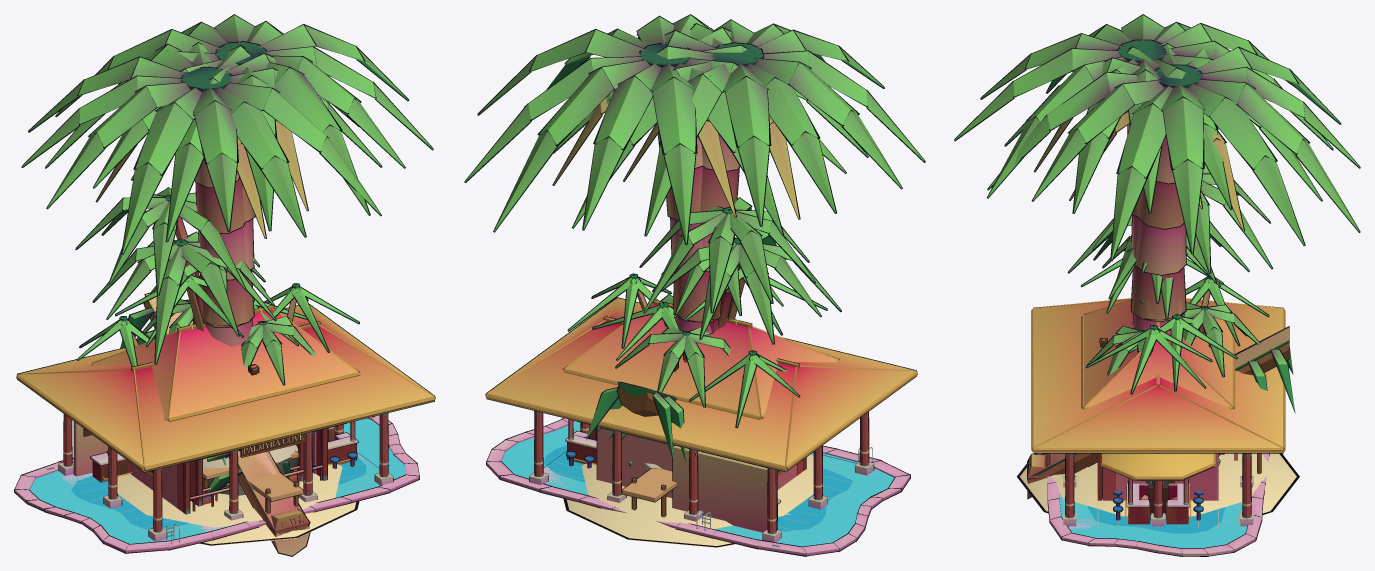
File: fps-kit-resort.glb
3 views of the same model, side by side, from view 1: azimuth 30°, elevation 25°; view 2: azimuth 150°, elevation 25°; view 3: azimuth 270°, elevation 25° (orthographic). The views are drawn at different scales.
Visible parts, largest first — view 1: KIT_RESORT_Landmark_Lobby, KIT_RESORT_Landmark_GiantPalm_B, KIT_RESORT_Landmark_GiantPalm_A, KIT_RESORT_Landmark_Pool, KIT_RESORT_Backdrop_Islet, KIT_RESORT_TallPalm_A, KIT_RESORT_TallPalm_B, KIT_RESORT_Ramp_Frond, KIT_RESORT_Landmark_Villa, KIT_RESORT_Palm_B, KIT_RESORT_Ramp_Limb, KIT_RESORT_Backdrop_Palm_B (+4 smaller); view 2: KIT_RESORT_Landmark_Lobby, KIT_RESORT_Landmark_GiantPalm_A, KIT_RESORT_Landmark_GiantPalm_B, KIT_RESORT_Landmark_Pool, KIT_RESORT_Backdrop_Islet, KIT_RESORT_TallPalm_B, KIT_RESORT_TallPalm_A, KIT_RESORT_Landmark_Villa, KIT_RESORT_Hedge_C, KIT_RESORT_Ramp_Frond, KIT_RESORT_Backdrop_Jetty, KIT_RESORT_Backdrop_Palm_A (+2 smaller); view 3: KIT_RESORT_Landmark_GiantPalm_A, KIT_RESORT_Landmark_Lobby, KIT_RESORT_Landmark_GiantPalm_B, KIT_RESORT_Landmark_Pool, KIT_RESORT_Backdrop_Islet, KIT_RESORT_TallPalm_B, KIT_RESORT_TallPalm_A, KIT_RESORT_Ramp_Frond, KIT_RESORT_Landmark_Villa, KIT_RESORT_Hedge_C, KIT_RESORT_Ramp_Limb, KIT_RESORT_Backdrop_Palm_A (+3 smaller).
Part boxes in pixels (bbox=[...]): KIT_RESORT_Landmark_Lobby: bbox=[16, 304, 435, 541]; KIT_RESORT_Landmark_GiantPalm_B: bbox=[21, 42, 382, 327]; KIT_RESORT_Landmark_GiantPalm_A: bbox=[45, 14, 433, 375]; KIT_RESORT_Landmark_Pool: bbox=[14, 415, 419, 553]; KIT_RESORT_Backdrop_Islet: bbox=[77, 283, 359, 545]; KIT_RESORT_TallPalm_A: bbox=[92, 231, 276, 364]; KIT_RESORT_TallPalm_B: bbox=[75, 187, 259, 295]; KIT_RESORT_Ramp_Frond: bbox=[120, 293, 310, 534]; KIT_RESORT_Landmark_Villa: bbox=[129, 423, 347, 514]; KIT_RESORT_Palm_B: bbox=[241, 316, 314, 385]; KIT_RESORT_Ramp_Limb: bbox=[143, 292, 309, 556]; KIT_RESORT_Backdrop_Palm_B: bbox=[115, 275, 254, 346]; KIT_RESORT_Landmark_Lobby: bbox=[485, 297, 917, 542]; KIT_RESORT_Landmark_GiantPalm_A: bbox=[464, 14, 868, 372]; KIT_RESORT_Landmark_GiantPalm_B: bbox=[553, 19, 925, 322]; KIT_RESORT_Landmark_Pool: bbox=[486, 418, 910, 556]; KIT_RESORT_Backdrop_Islet: bbox=[563, 273, 813, 547]; KIT_RESORT_TallPalm_B: bbox=[639, 197, 815, 333]; KIT_RESORT_TallPalm_A: bbox=[652, 229, 841, 344]; KIT_RESORT_Landmark_Villa: bbox=[577, 421, 806, 497]; KIT_RESORT_Hedge_C: bbox=[615, 327, 730, 407]; KIT_RESORT_Ramp_Frond: bbox=[586, 381, 696, 461]; KIT_RESORT_Backdrop_Jetty: bbox=[621, 468, 676, 517]; KIT_RESORT_Backdrop_Palm_A: bbox=[592, 302, 684, 360]; KIT_RESORT_Landmark_GiantPalm_A: bbox=[987, 43, 1360, 347]; KIT_RESORT_Landmark_Lobby: bbox=[1031, 298, 1285, 529]; KIT_RESORT_Landmark_GiantPalm_B: bbox=[954, 14, 1333, 319]; KIT_RESORT_Landmark_Pool: bbox=[1047, 453, 1269, 556]; KIT_RESORT_Backdrop_Islet: bbox=[1017, 276, 1299, 516]; KIT_RESORT_TallPalm_B: bbox=[1092, 164, 1273, 273]; KIT_RESORT_TallPalm_A: bbox=[1067, 216, 1249, 319]; KIT_RESORT_Ramp_Frond: bbox=[1027, 326, 1295, 480]; KIT_RESORT_Landmark_Villa: bbox=[1097, 453, 1218, 500]; KIT_RESORT_Hedge_C: bbox=[1183, 302, 1260, 377]; KIT_RESORT_Ramp_Limb: bbox=[1027, 327, 1289, 499]; KIT_RESORT_Backdrop_Palm_A: bbox=[1129, 314, 1237, 391].
Size of the model in its own units: 21.9 by 24.5 by 20.21.
Materials: 1 (1 with a texture image).
